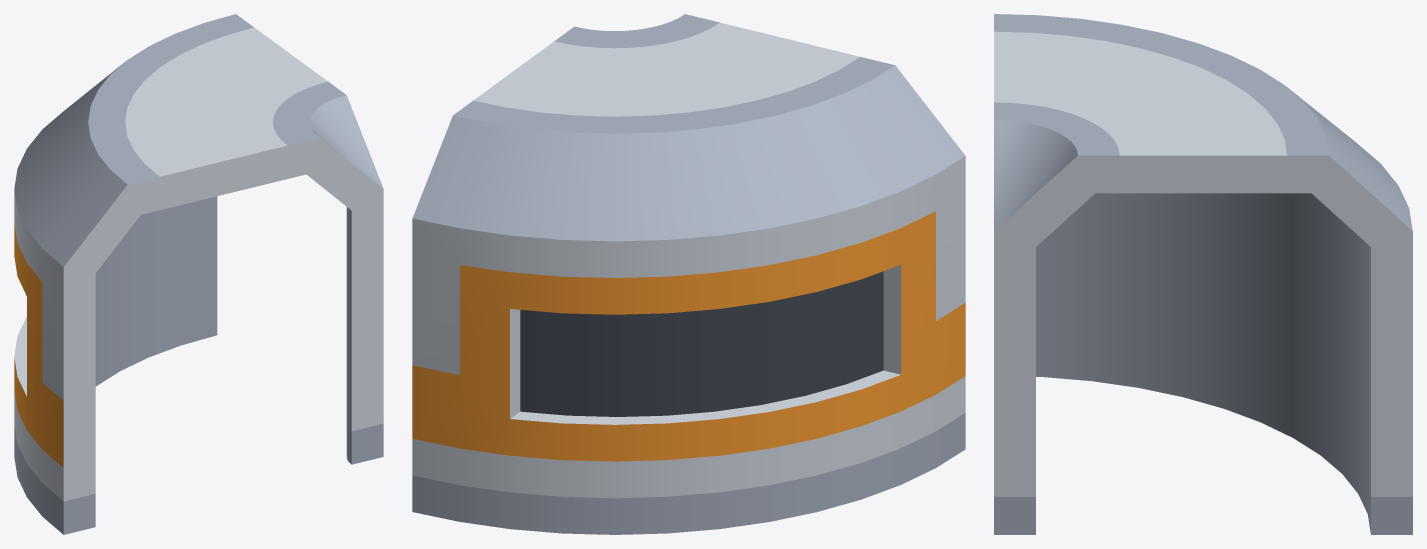
File: corridor_cornerRoundWindow.fbx
3 renders of one model, left to right at view 1: azimuth 30°, elevation 25°; view 2: azimuth 150°, elevation 25°; view 3: azimuth 270°, elevation 25°, orthographic. The views are drawn at different scales.
Visible parts, largest first — view 1: corridor_cornerRoundWindow; view 2: corridor_cornerRoundWindow; view 3: corridor_cornerRoundWindow.
Boxes of the visible parts, x1,y1,x2,y2 form: corridor_cornerRoundWindow: (14, 14, 383, 534); corridor_cornerRoundWindow: (412, 14, 965, 534); corridor_cornerRoundWindow: (994, 14, 1412, 534).
Size of the model in its own units: 10 by 10 by 10.
